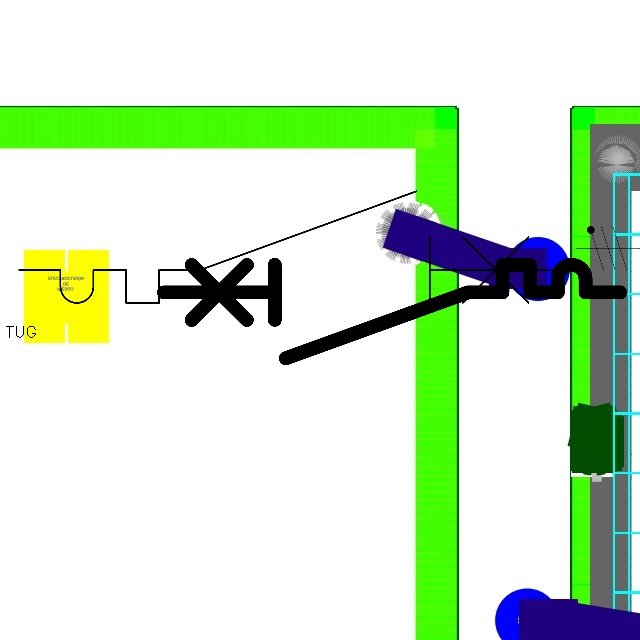interruptor_termomagnetico: (5, 177, 576, 317), (152, 253, 632, 370)
